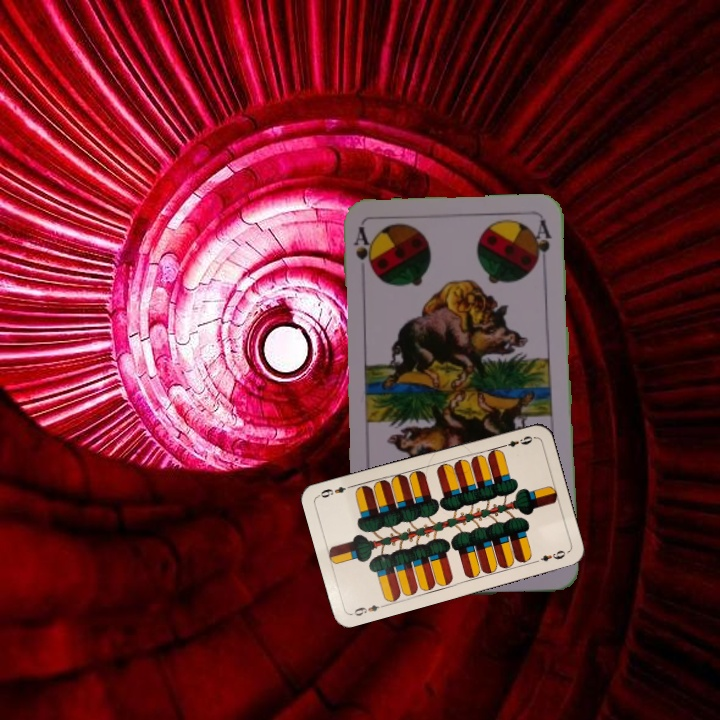E9: (348, 600, 388, 619), (497, 432, 537, 450)
SA: (349, 223, 374, 274)
